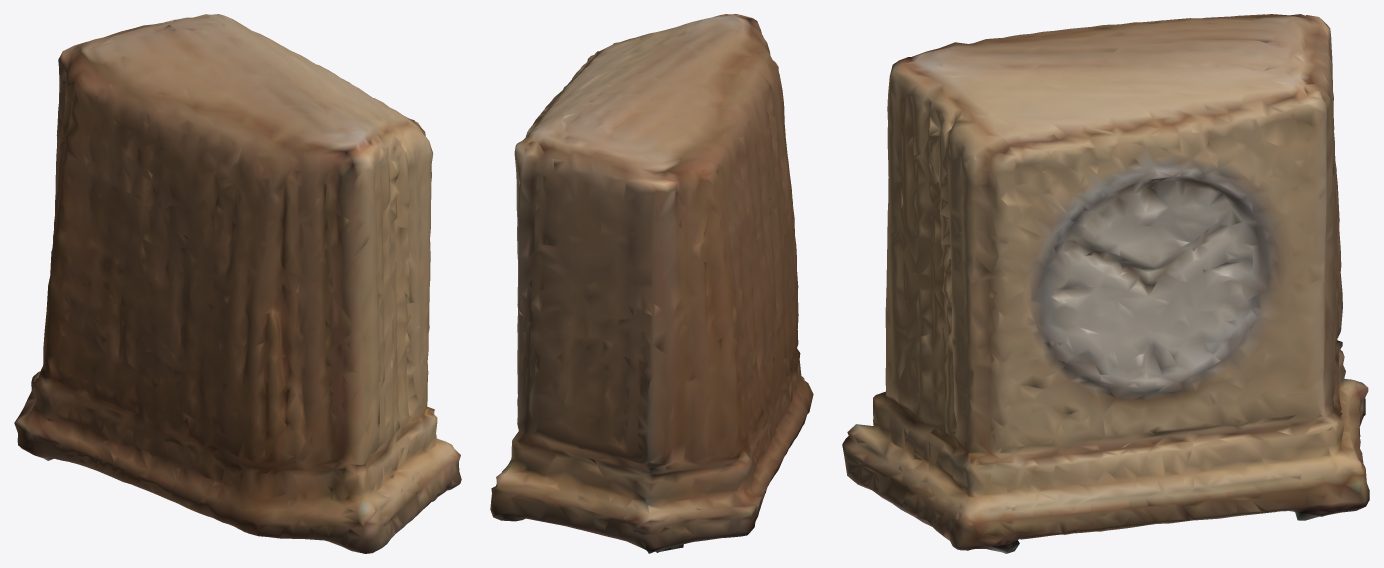
3 renders of one model, left to right at view 1: azimuth 30°, elevation 25°; view 2: azimuth 150°, elevation 25°; view 3: azimuth 270°, elevation 25°, orthographic. The views are drawn at different scales.
Visible parts, largest first — view 1: geometry_0; view 2: geometry_0; view 3: geometry_0.
Boxes of the visible parts, x1=… form: geometry_0: x1=14, y1=14, x2=461, y2=553; geometry_0: x1=490, y1=14, x2=813, y2=553; geometry_0: x1=842, y1=14, x2=1369, y2=553.
Bounding box in the file's own units: 0.1753 × 0.22 × 0.2363.
